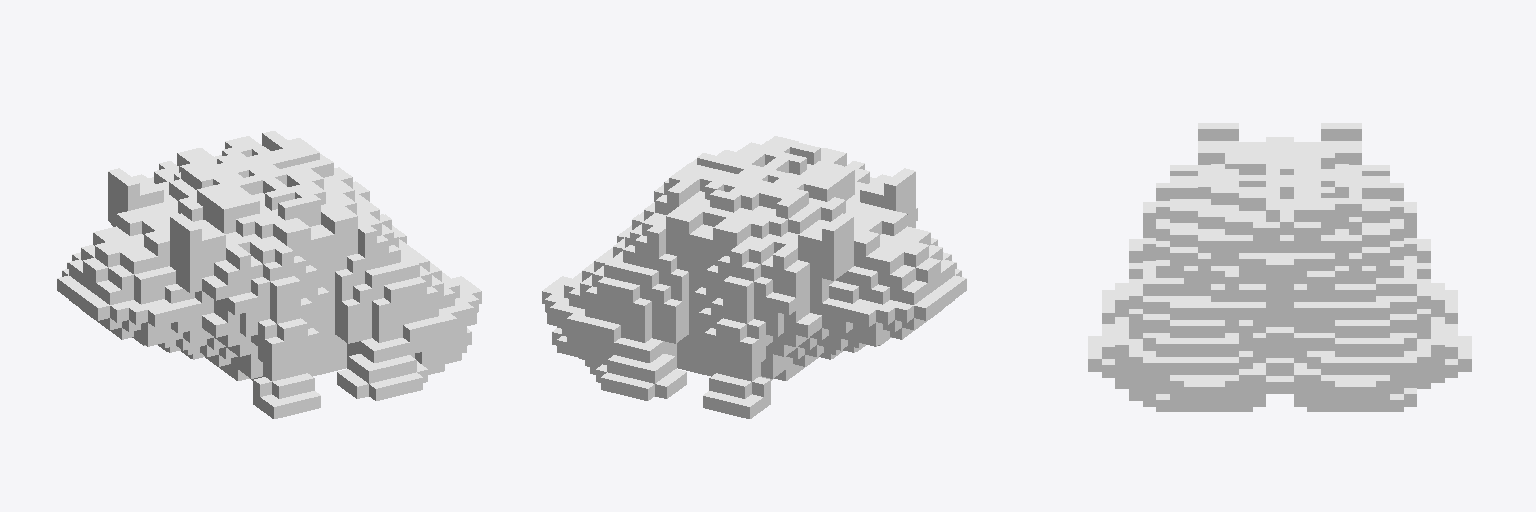
Rendered from xyu-0.obj.
3 views of the same model, side by side, from view 1: azimuth 30°, elevation 25°; view 2: azimuth 150°, elevation 25°; view 3: azimuth 270°, elevation 25° (orthographic).
Parts seen in each view (by area): view 1: object 1; view 2: object 1; view 3: object 1.
Part boxes in pixels (x1,y1,x2,y2): object 1: (57,131,481,418); object 1: (542,136,966,418); object 1: (1088,123,1471,411).
Bounding box in the file's own units: 3 × 1.3 × 2.8.